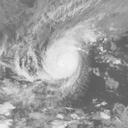cyclone: (42, 38, 80, 78)
